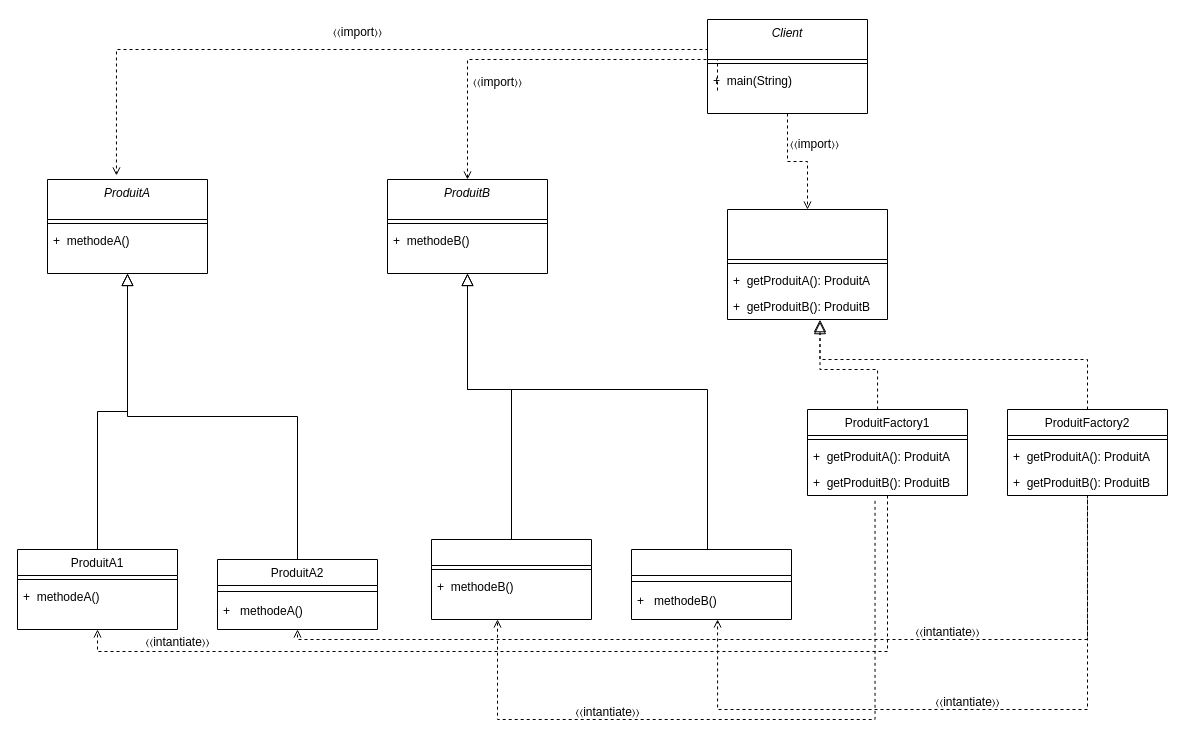
The diagram is 1185 pixels wide and 745 high, and some of its shapes have lost their labels. Here are the shapes that lost their labels. From the top down, the box of each, then its label:
(726, 208, 888, 320): 〈〈interface〉〉 IProduitFactory
(430, 538, 592, 620): ProduitB1
(630, 548, 792, 620): ProduitB2
